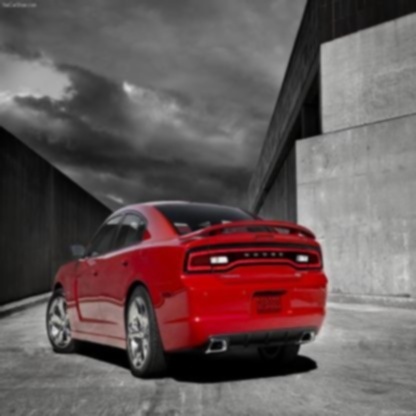Vehicle: (45, 198, 330, 381)
